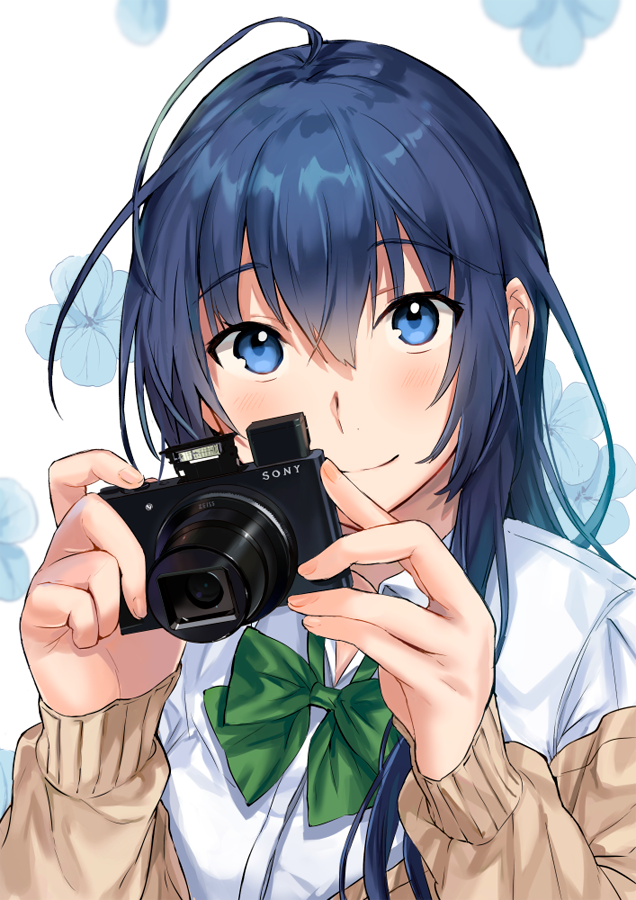纸片人正脸: (120, 36, 548, 527)
